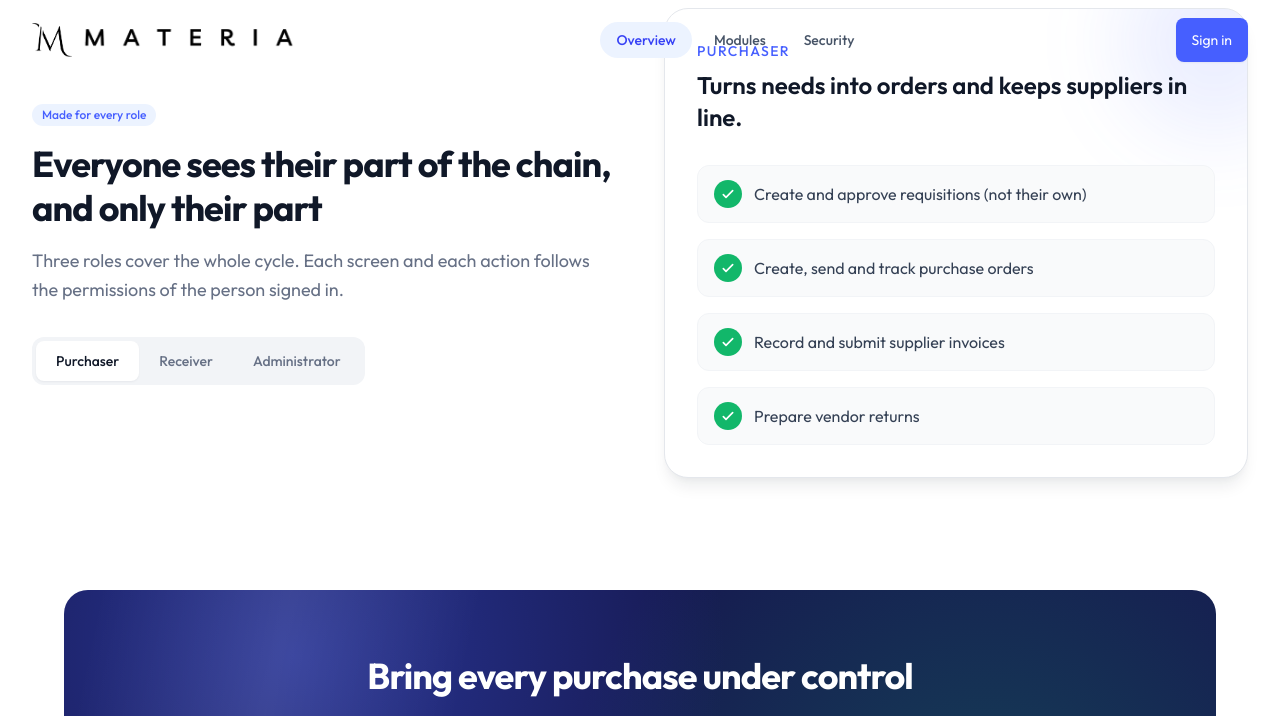
Test: public pages › rule: the role tabs switch the abilities shown
This screenshot has width=1280, height=716.
(page scrolled)
Click the tab "Receiver".
click(186, 361)  # box [139,341,233,381]
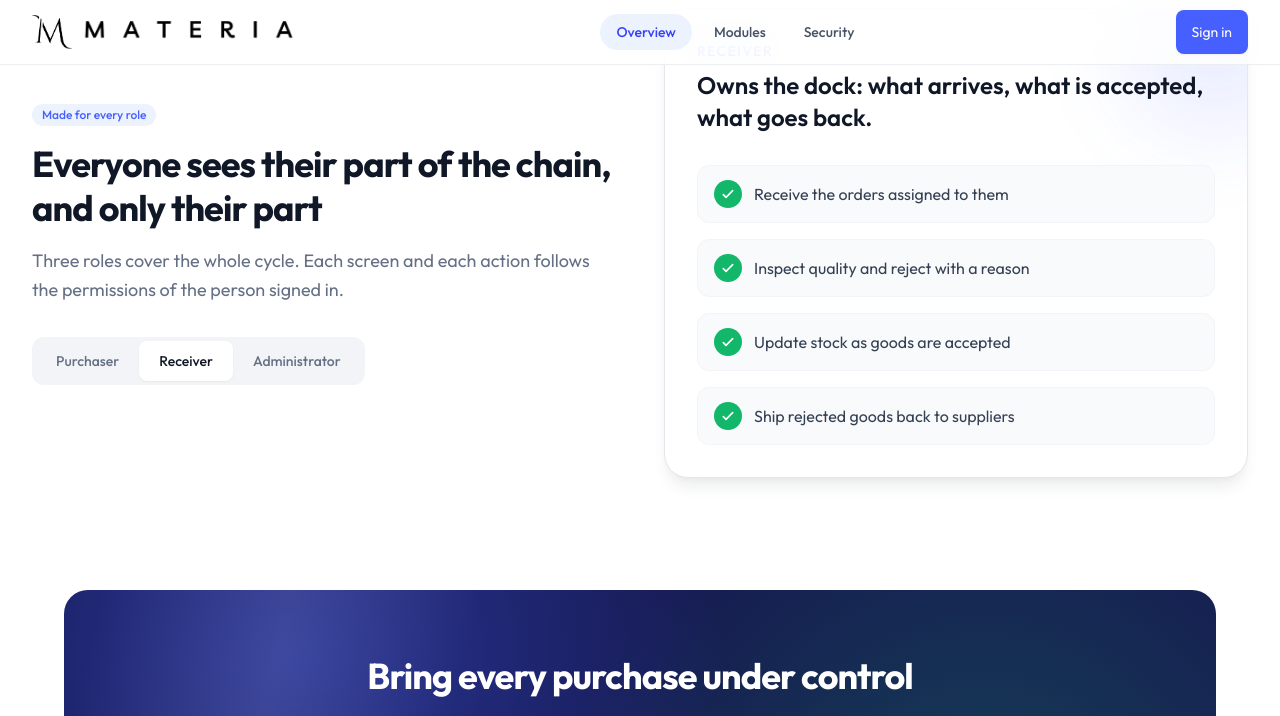
Result: the list item "Receive the orders assigned to them" is shown at [697,165,1215,223]
Result: the list item "Inspect quality and reject with a reason" is shown at [697,239,1215,297]
Result: the list item "Update stock as goods are accepted" is shown at [697,313,1215,371]
